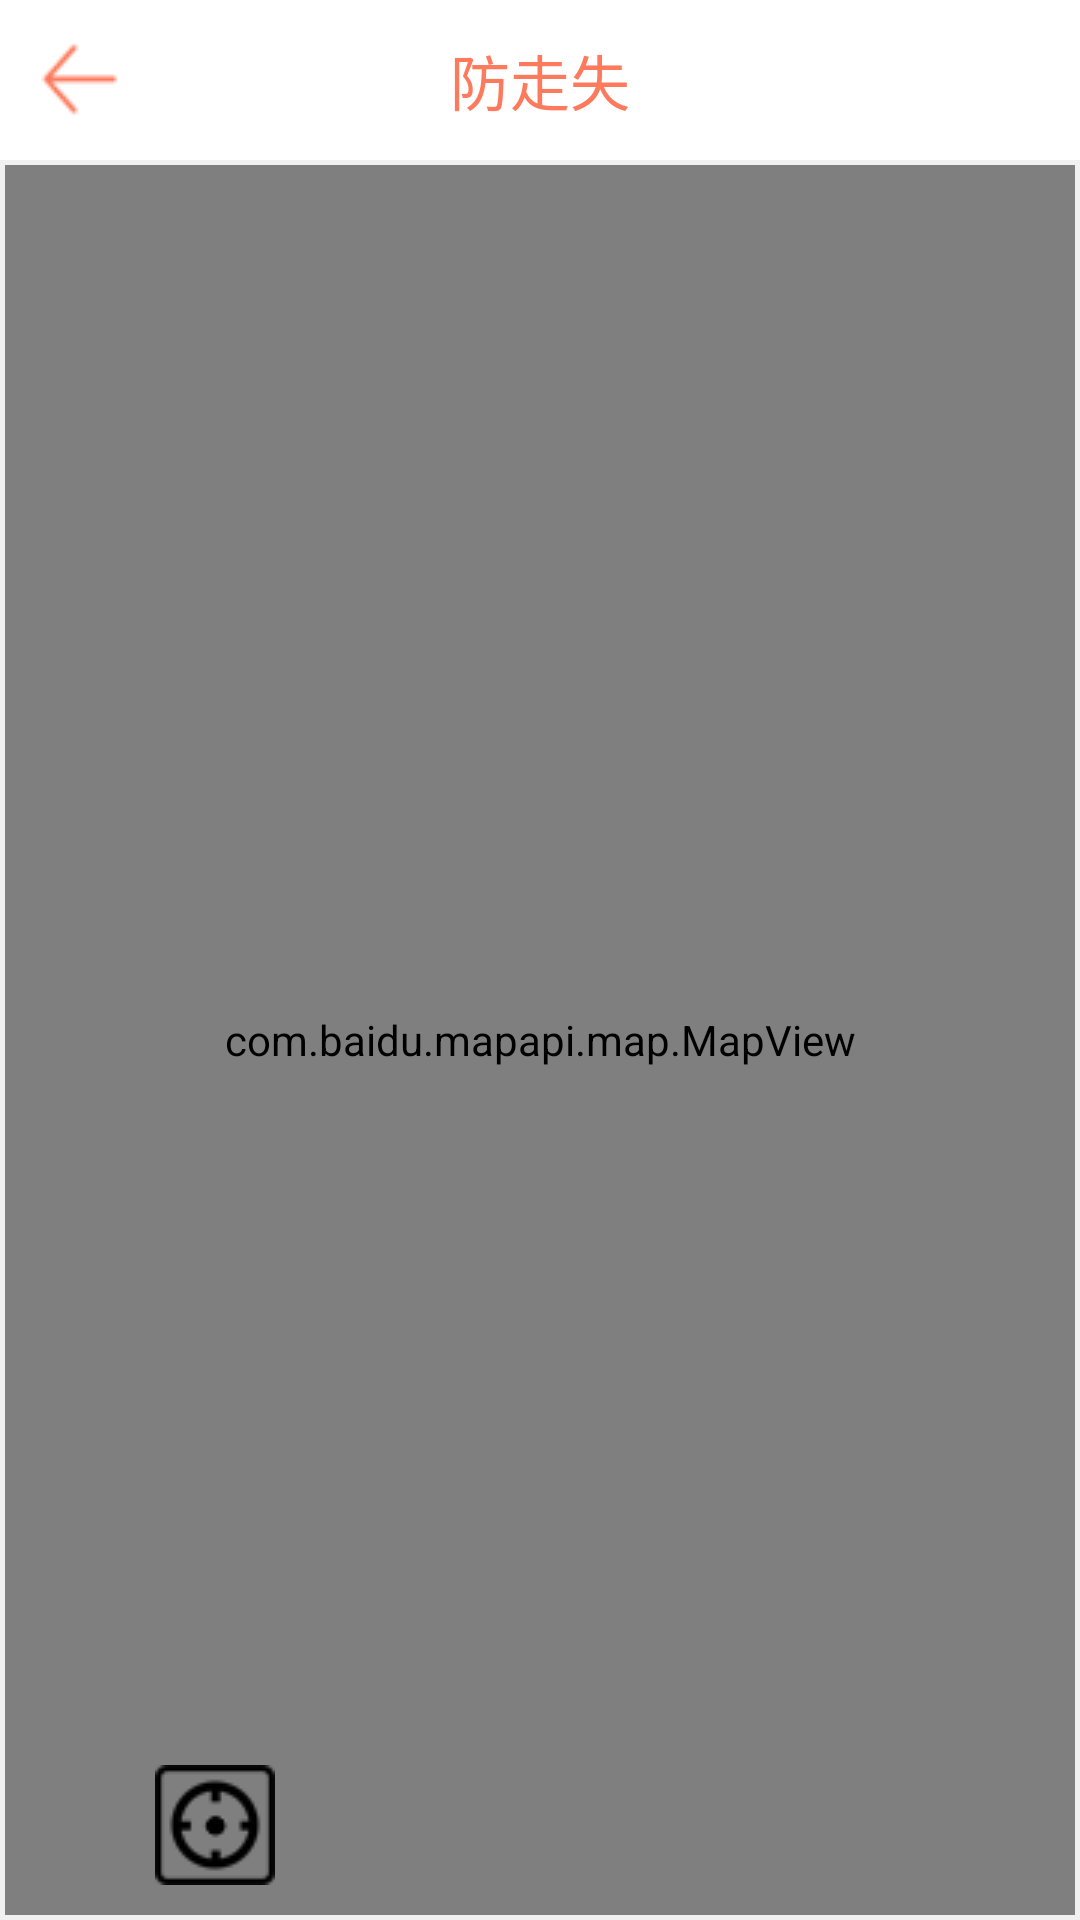

Where icons sit on this 1080x1920 app screen, as [x1,y1,x2,y2]:
mylocation: [155,1765,275,1885]
zuo: [42,44,118,115]
